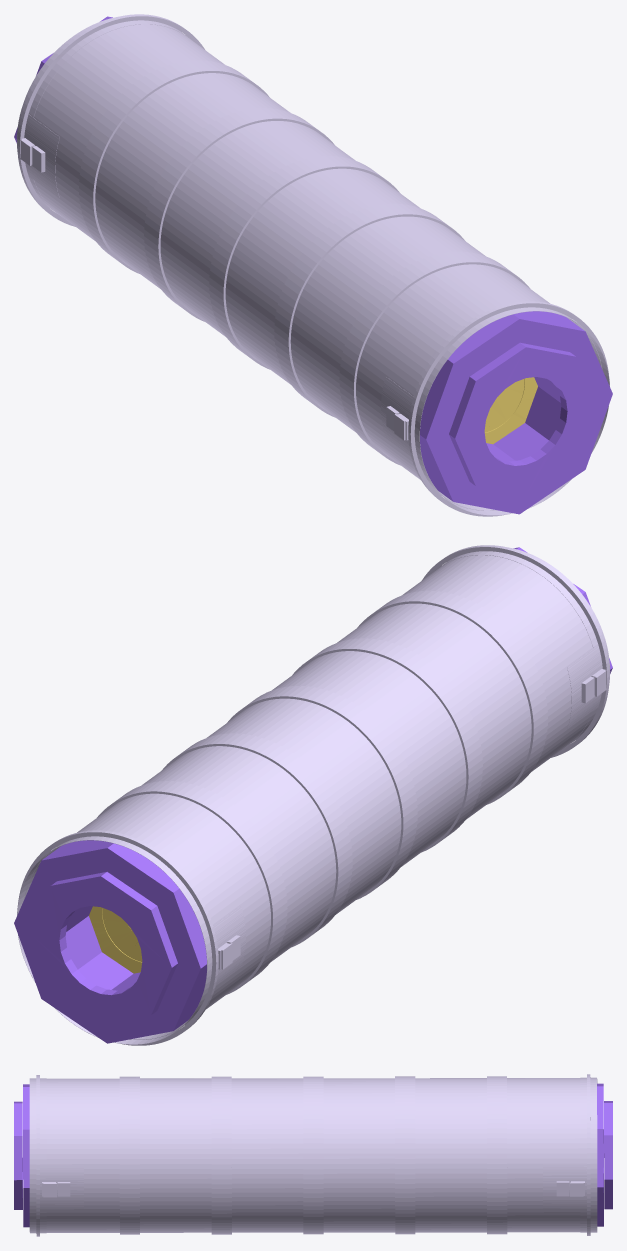
The model's file is pixel.glb.
3 renders of one model, top to bottom at view 1: azimuth 30°, elevation 25°; view 2: azimuth 150°, elevation 25°; view 3: azimuth 270°, elevation 25°, orthographic. The views are drawn at different scales.
Visible parts, largest first — view 1: null; view 2: null; view 3: null.
Boxes of the visible parts, <box> form: null: <box>14,14,612,516</box>; null: <box>14,545,612,1045</box>; null: <box>14,1074,612,1236</box>.
Bounding box in the file's own units: 0.488 × 0.4812 × 1.77.
